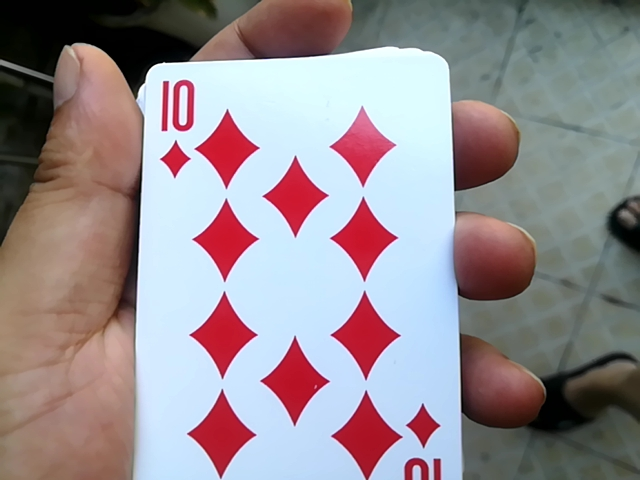fk 10: (118, 42, 449, 479)
